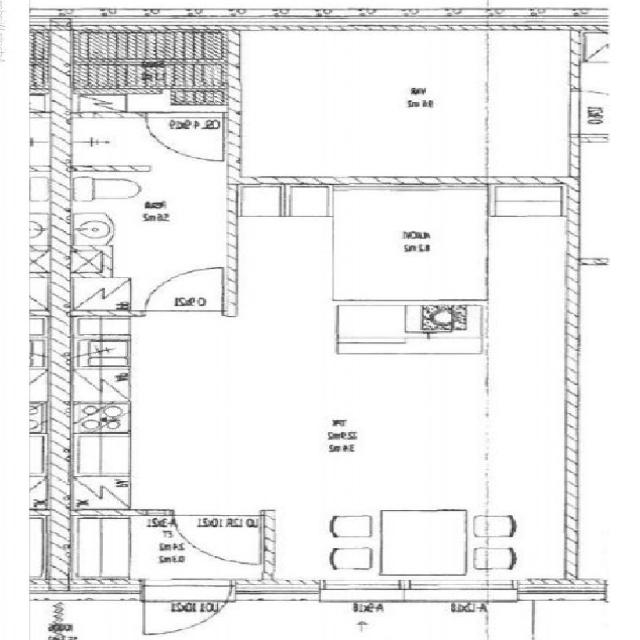door: (144, 579, 227, 640), (176, 509, 260, 564), (147, 266, 224, 316), (148, 111, 224, 160), (565, 91, 640, 134)
